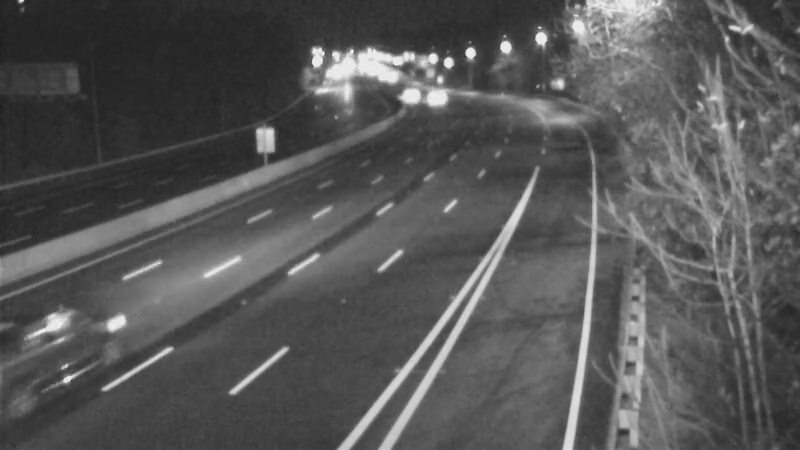vehicle: (1, 317, 101, 427), (413, 70, 463, 120), (378, 70, 428, 120)
